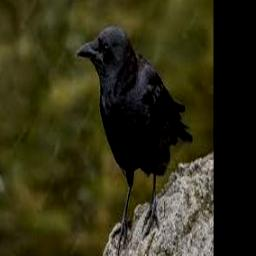Crow: (75, 27, 191, 251)
